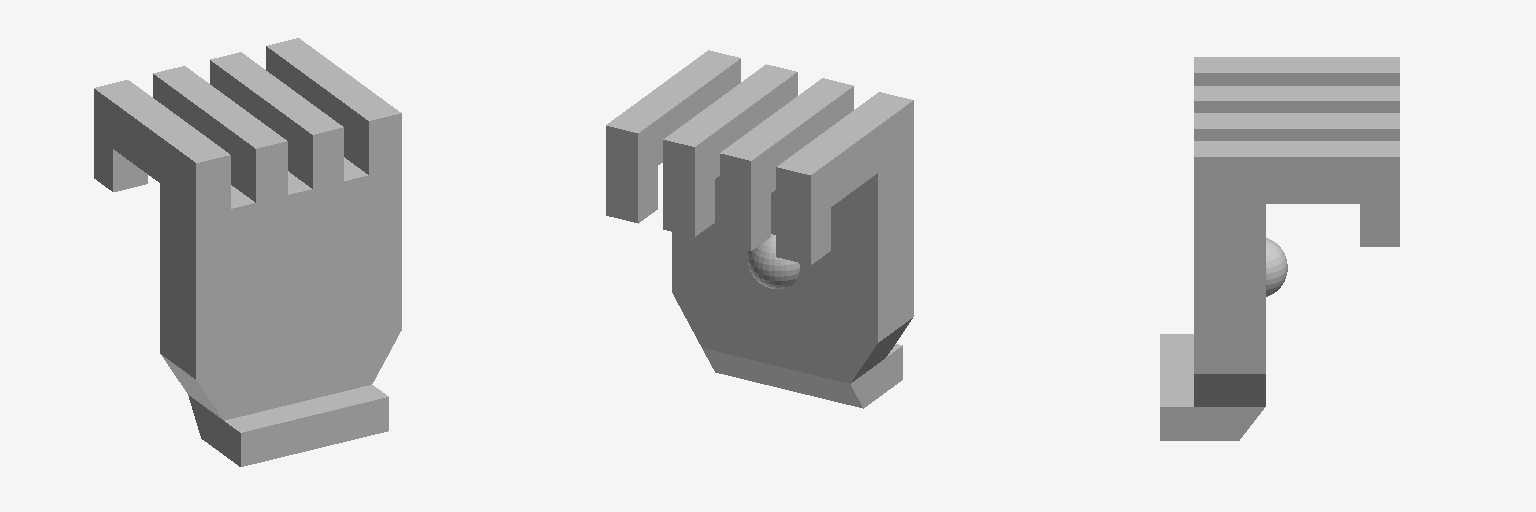
Rendered from enemy.obj.
The picture shows the model from 3 angles: view 1: azimuth 30°, elevation 25°; view 2: azimuth 150°, elevation 25°; view 3: azimuth 270°, elevation 25°; orthographic projection.
Visible parts, largest first — view 1: 球; view 2: 球; view 3: 球.
Part boxes in pixels (left/top/right/bottom): 球: left=94, top=38, right=401, bottom=466; 球: left=606, top=50, right=913, bottom=408; 球: left=1160, top=57, right=1399, bottom=440.
Size of the model in its own units: 12.43 by 17.27 by 12.54.